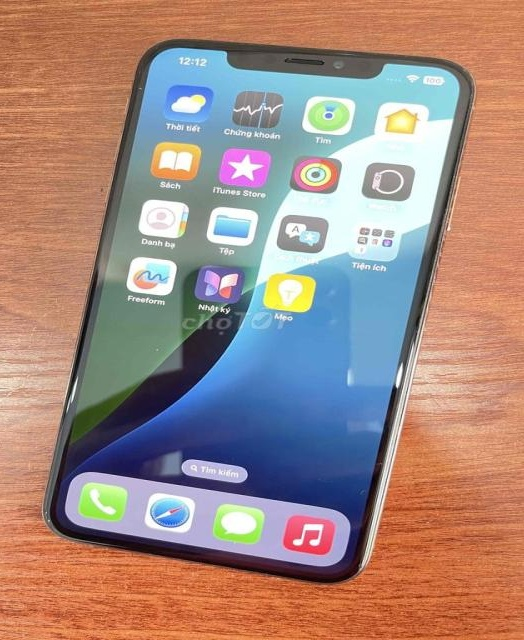scratch: (122, 82, 159, 98)
